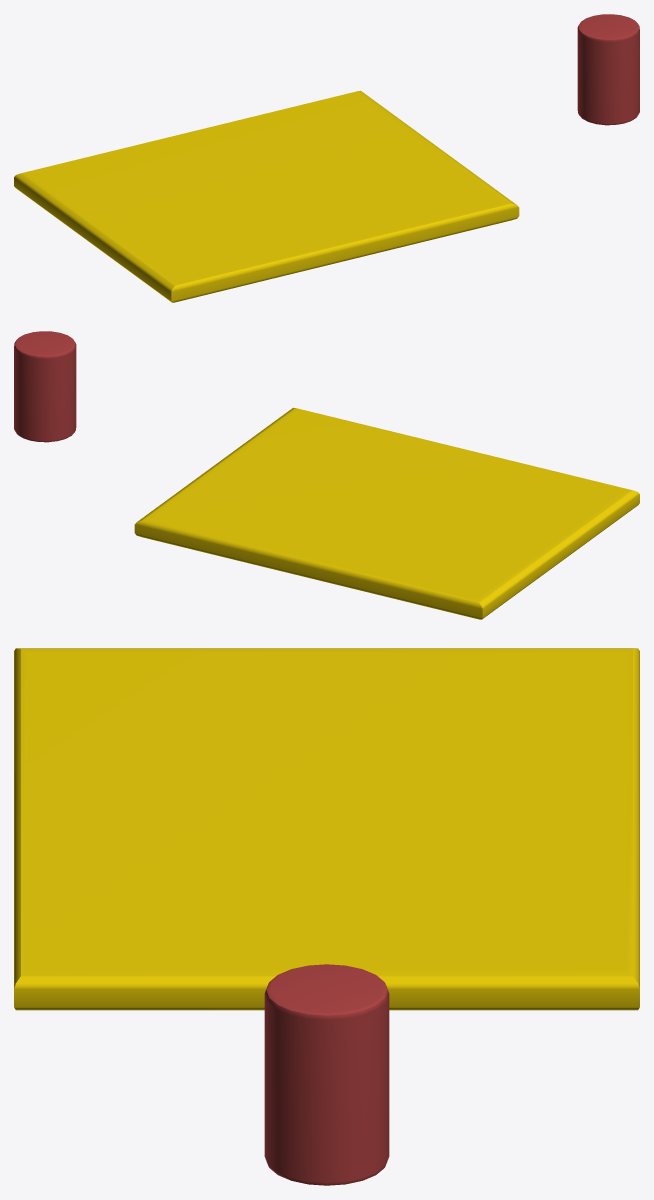
Rendered from AHDE_Barrel_Platform_V1.fbx.
The picture shows the model from 3 angles, top to bottom: view 1: azimuth 30°, elevation 25°; view 2: azimuth 150°, elevation 25°; view 3: azimuth 270°, elevation 25°; orthographic projection. The views are drawn at different scales.
Parts seen in each view (by area): view 1: MovingPlatform1, Barrel1; view 2: MovingPlatform1, Barrel1; view 3: MovingPlatform1, Barrel1.
Part boxes in pixels (bbox=[...]): MovingPlatform1: bbox=[14, 90, 519, 302]; Barrel1: bbox=[577, 14, 639, 125]; MovingPlatform1: bbox=[134, 407, 639, 619]; Barrel1: bbox=[14, 331, 76, 442]; MovingPlatform1: bbox=[14, 648, 639, 1010]; Barrel1: bbox=[264, 964, 389, 1185].
Size of the model in its own units: 1187 by 200 by 595.
